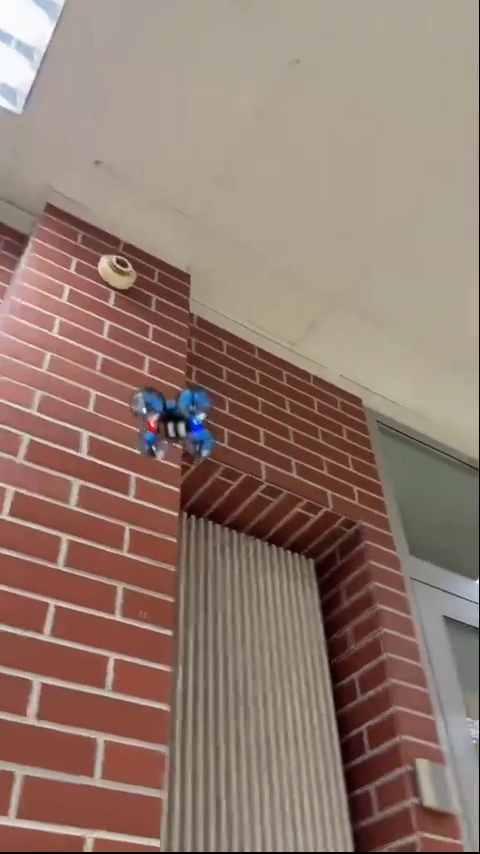drone: (131, 386, 212, 462)
